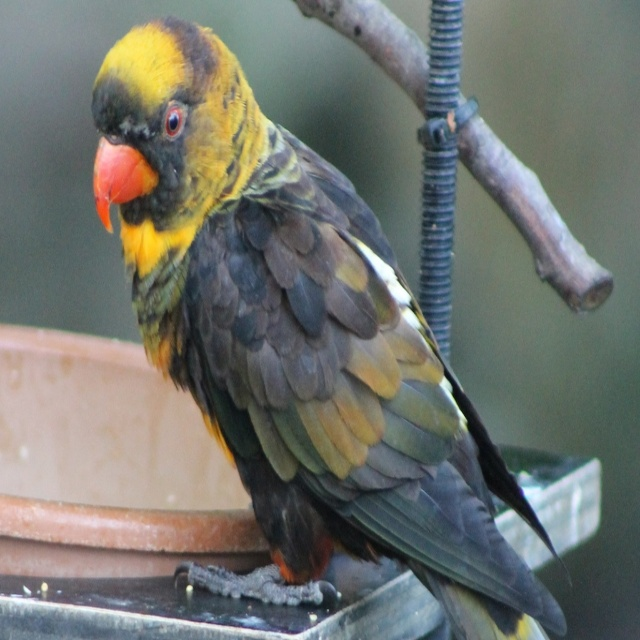Parrot: (91, 11, 568, 620)
